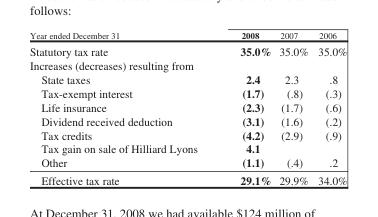table: (29, 29, 346, 186)
table column: (29, 29, 218, 186), (218, 29, 274, 186), (274, 29, 312, 186), (312, 29, 346, 186)
table column header: (29, 29, 346, 42)
table projected row header: (29, 58, 346, 72)
table row: (29, 42, 346, 58), (29, 155, 346, 171), (29, 171, 346, 186), (29, 58, 346, 72), (29, 85, 346, 99), (29, 99, 346, 113), (29, 113, 346, 127), (29, 127, 346, 141), (29, 141, 346, 155), (29, 29, 346, 42), (29, 72, 346, 85)
